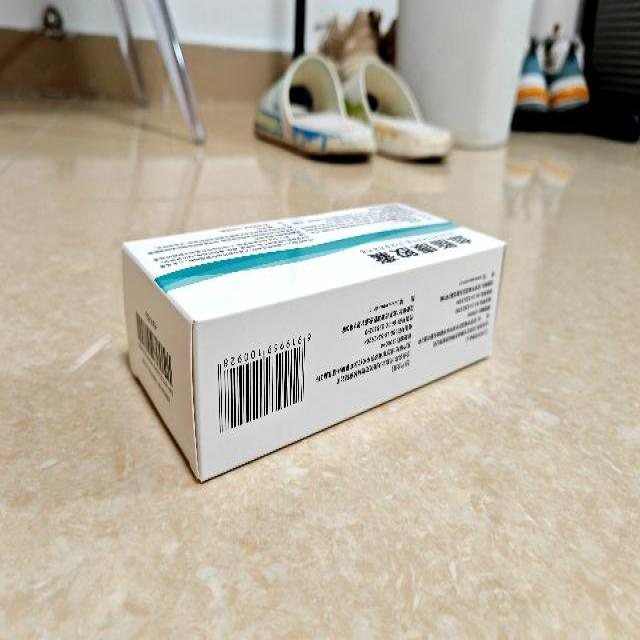box: (121, 202, 507, 484)
